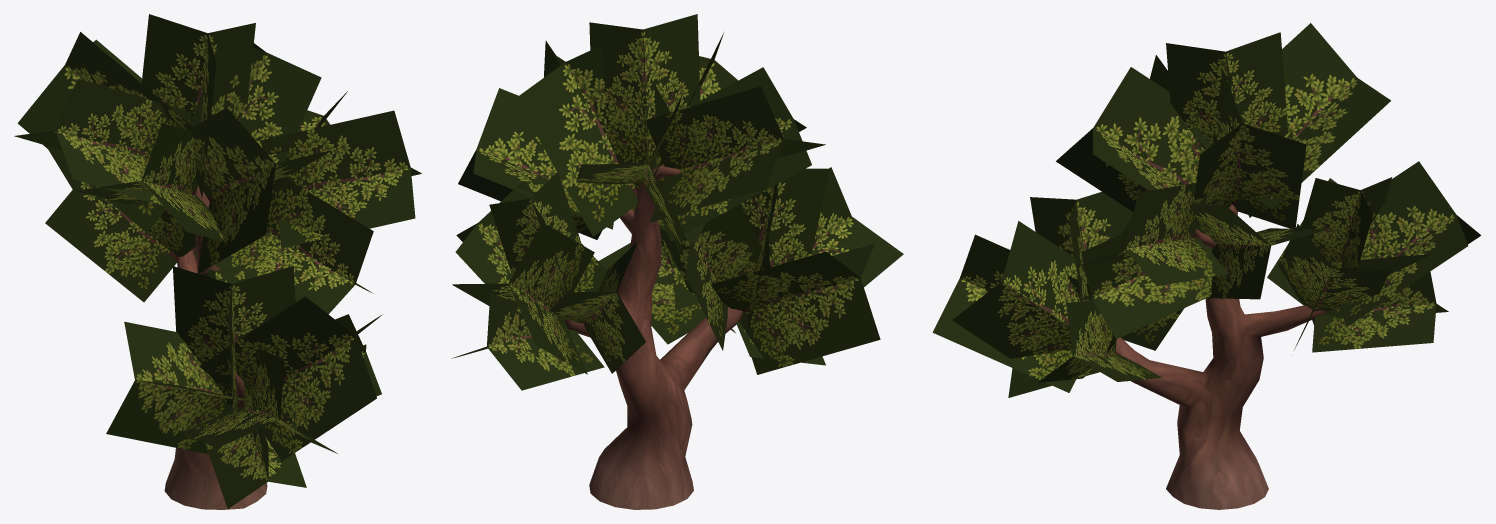
Rendered from zugrand_tree_02.fbx.
The picture shows the model from 3 angles, left to right: view 1: azimuth 30°, elevation 25°; view 2: azimuth 150°, elevation 25°; view 3: azimuth 270°, elevation 25°; orthographic projection. The views are drawn at different scales.
Parts seen in each view (by area): view 1: zugrand_tree_02; view 2: zugrand_tree_02; view 3: zugrand_tree_02.
Boxes of the visible parts, x1,y1,x2,y2 form: zugrand_tree_02: (14,14,421,509); zugrand_tree_02: (451,14,903,509); zugrand_tree_02: (932,23,1480,509).
Size of the model in its own units: 17.6 by 22.33 by 25.23.
